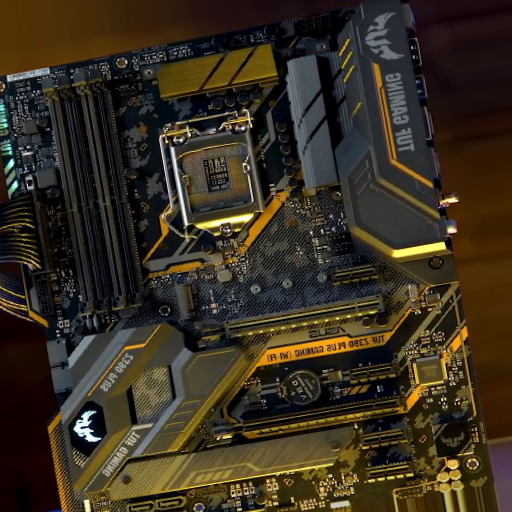CPU: (164, 111, 263, 238)
GPU: (207, 394, 404, 446), (198, 293, 383, 347)
MOTHERBOARD: (1, 1, 494, 508)
RAM: (41, 73, 145, 323)
SSD: (173, 284, 198, 324)
